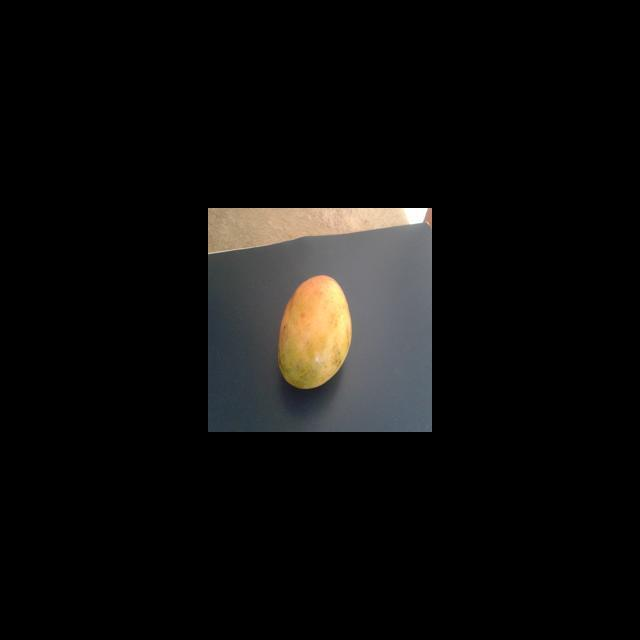Mango: (277, 274, 352, 390)
